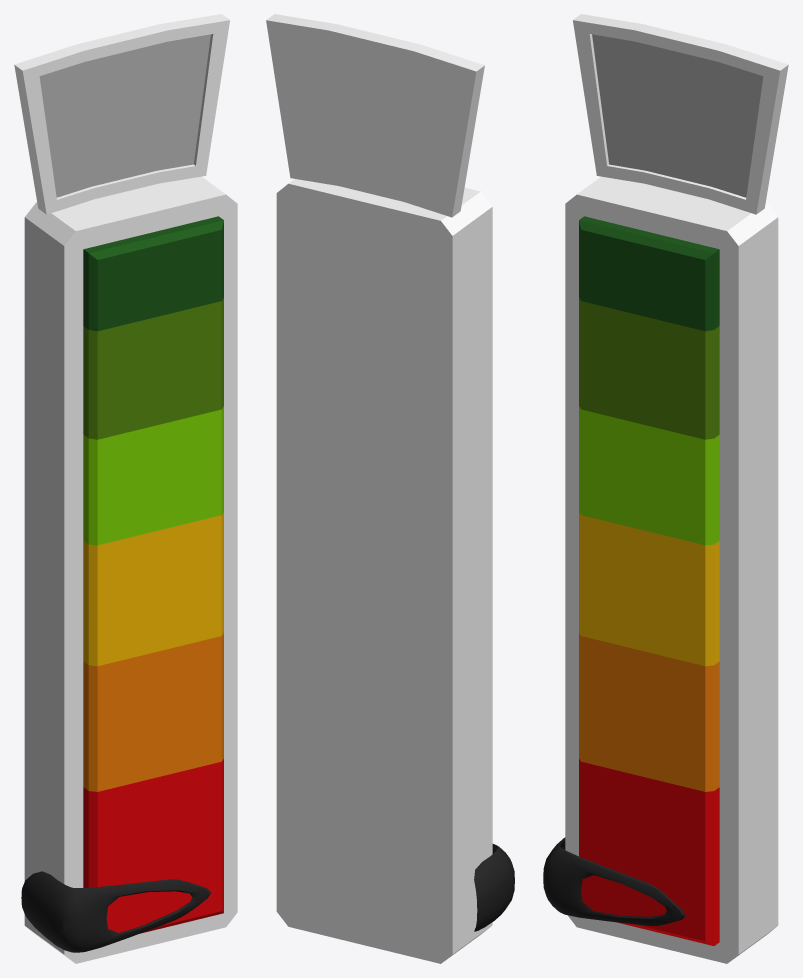
File: StraightMeter.fbx
3 views of the same model, side by side, from view 1: azimuth 30°, elevation 25°; view 2: azimuth 150°, elevation 25°; view 3: azimuth 330°, elevation 25° (orthographic).
Visible parts, largest first — view 1: StraightMeter, StraightMeterBoard, StraightMeterPointer; view 2: StraightMeter, StraightMeterBoard, StraightMeterPointer; view 3: StraightMeter, StraightMeterBoard, StraightMeterPointer.
Boxes of the visible parts, box(x1,y1,x2,y2) form: StraightMeter: box(24, 176, 237, 963); StraightMeterBoard: box(14, 14, 229, 214); StraightMeterPointer: box(21, 871, 210, 952); StraightMeter: box(276, 179, 492, 963); StraightMeterBoard: box(266, 14, 484, 217); StraightMeterPointer: box(474, 844, 514, 931); StraightMeter: box(565, 176, 778, 963); StraightMeterBoard: box(573, 14, 788, 214); StraightMeterPointer: box(543, 837, 685, 925).
Bounding box in the file's own units: 93.34 × 381 × 42.06.
